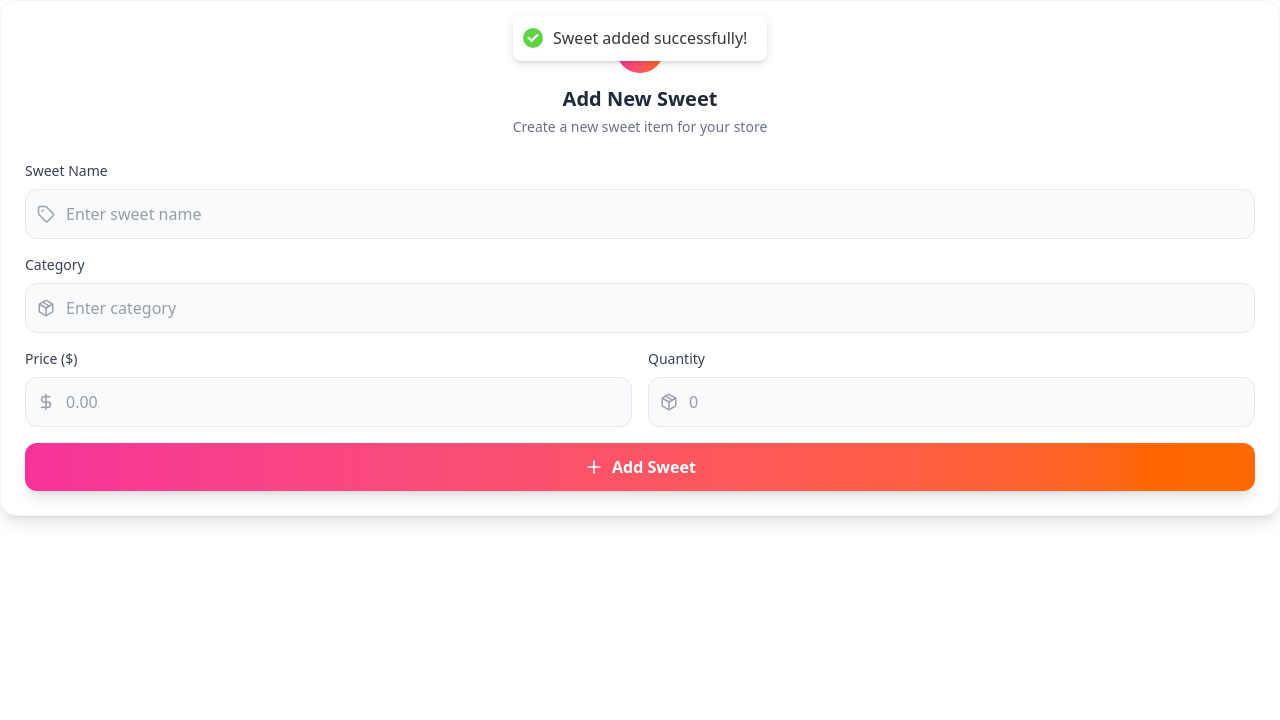
AddSweetForm › should show loading state during submission
Type "Test Sweet" into the field with placeholder "Enter sweet name" at (640, 214), box [25,189,1255,239]
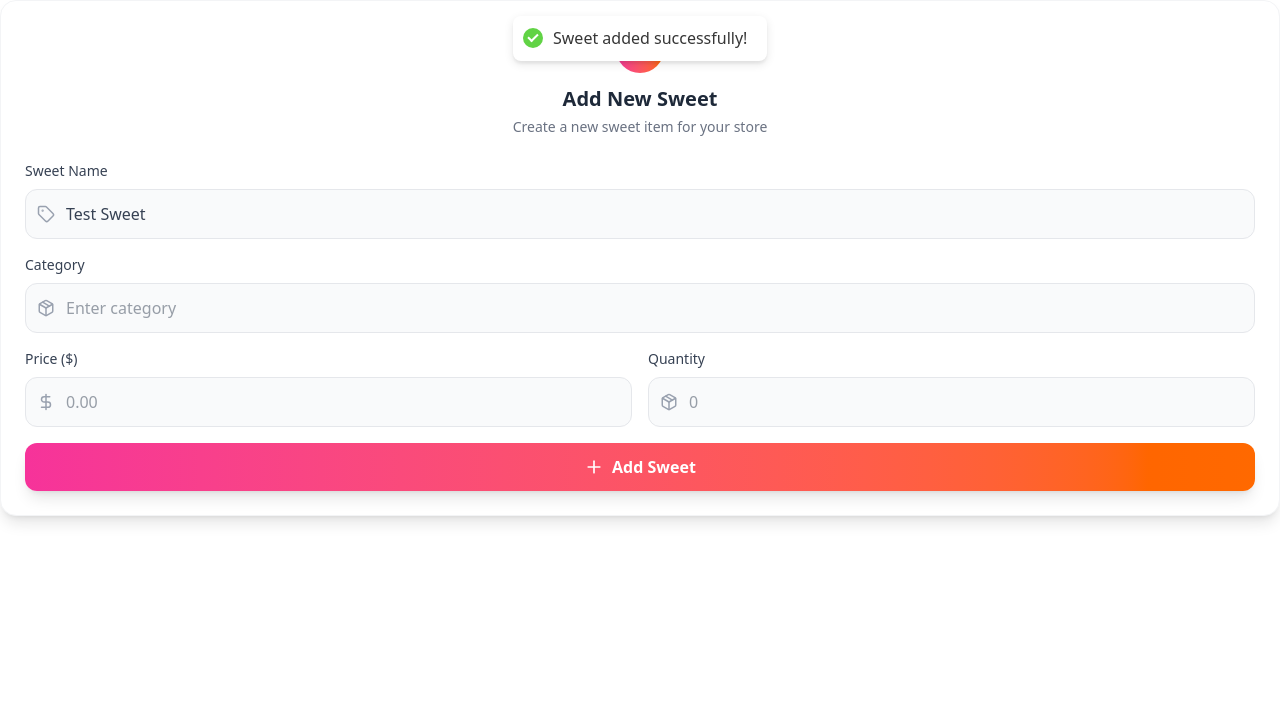
Type "Candy" into the field with placeholder "Enter category" at (640, 308), box [25,283,1255,333]
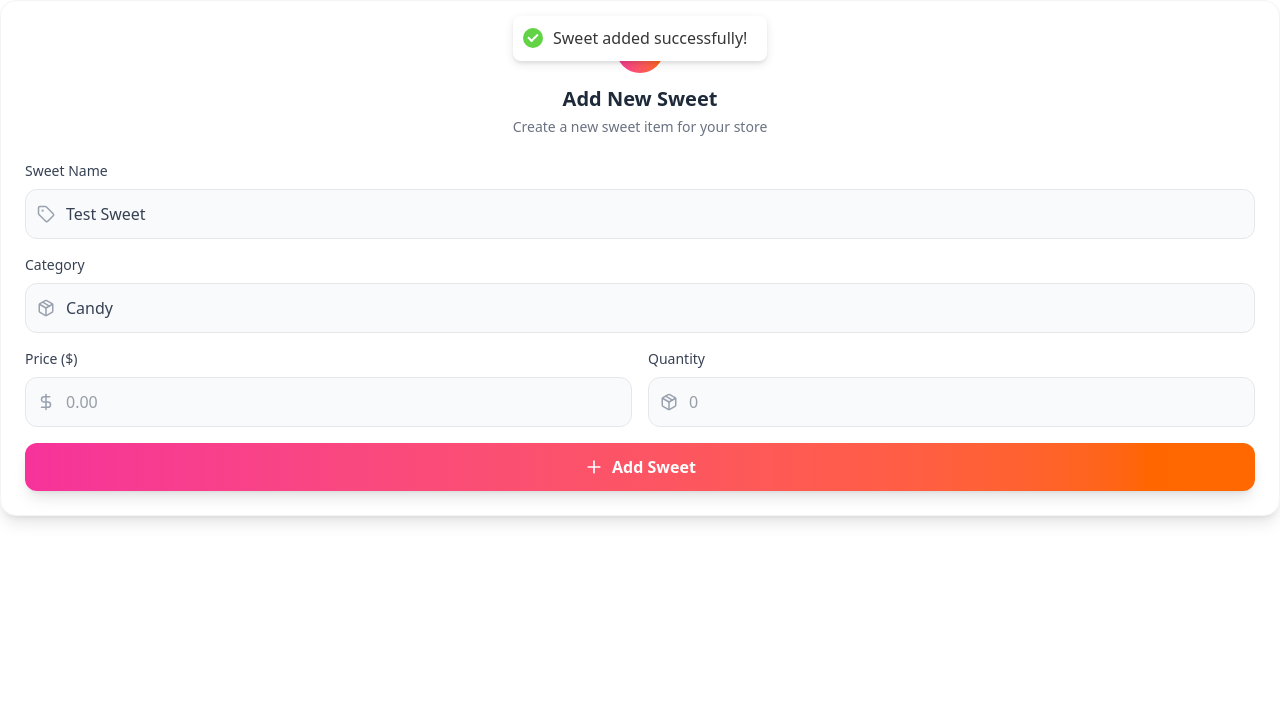
Type "5.99" into the number field with placeholder "0.00" at (328, 402), box [25,377,632,427]
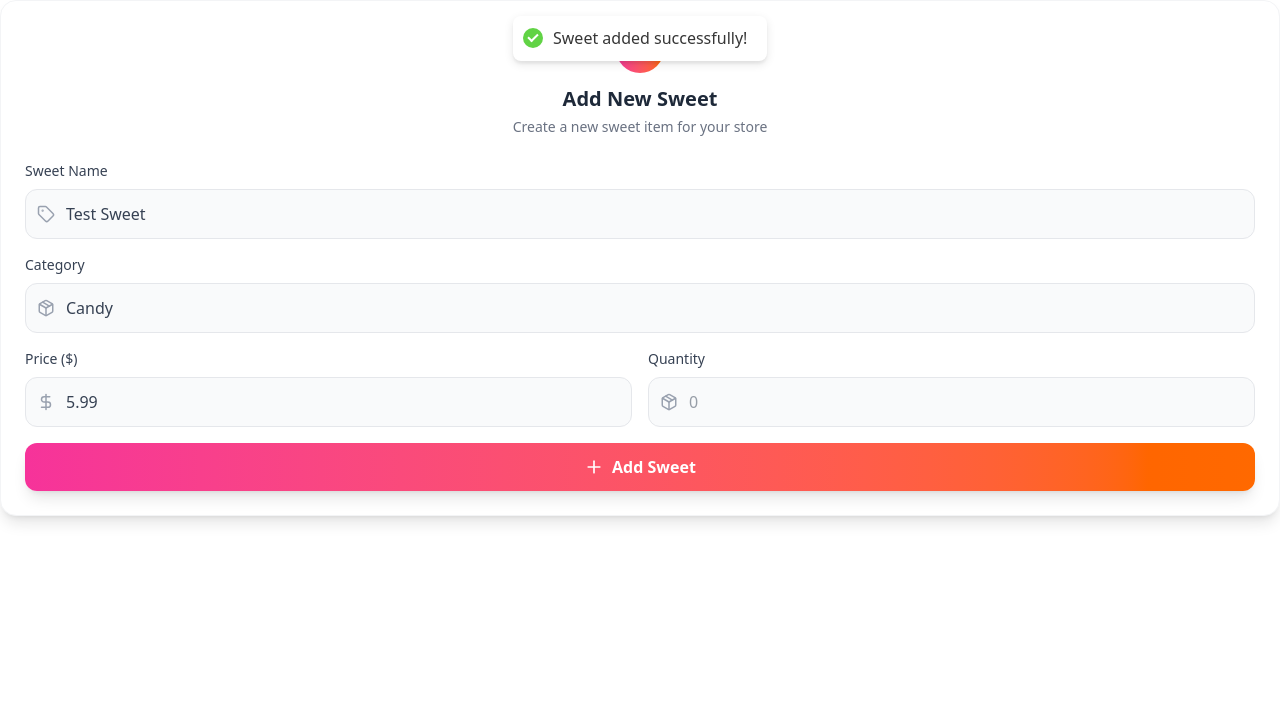
Type "10" into the number field with placeholder "0" at (952, 402), box [648,377,1255,427]
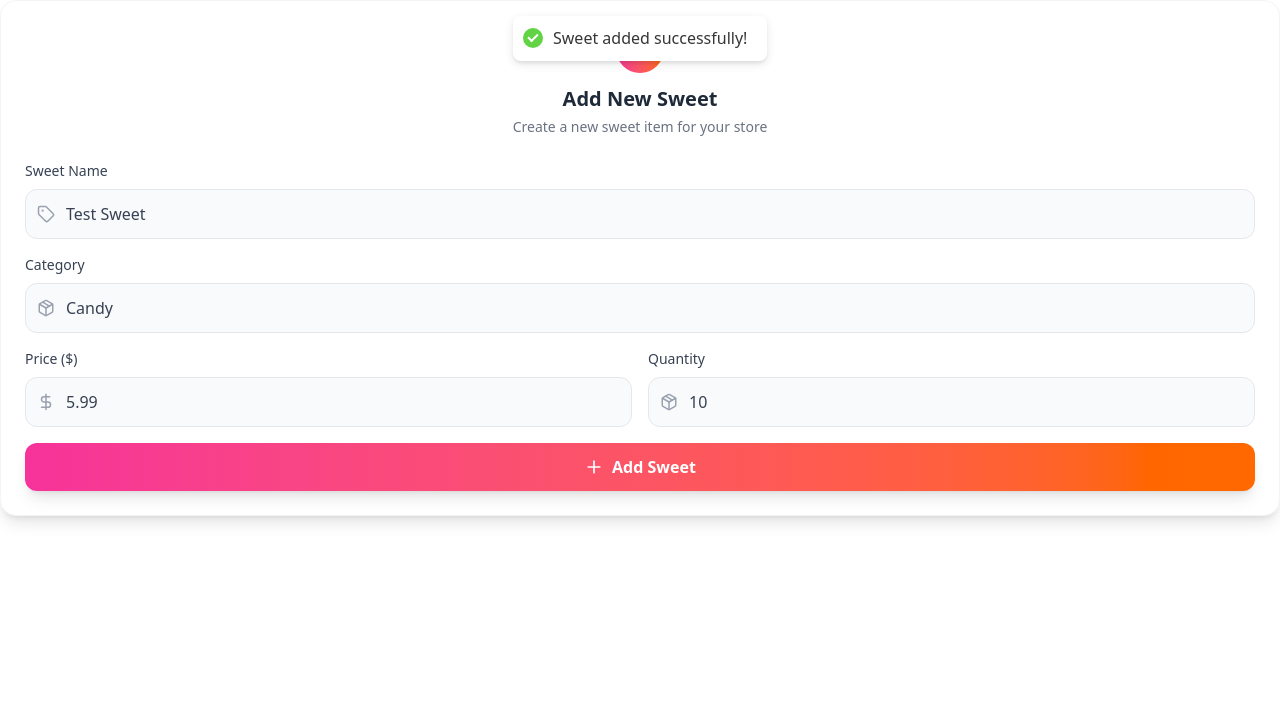
Click the button "Add Sweet" at (640, 467), box [25,443,1255,491]
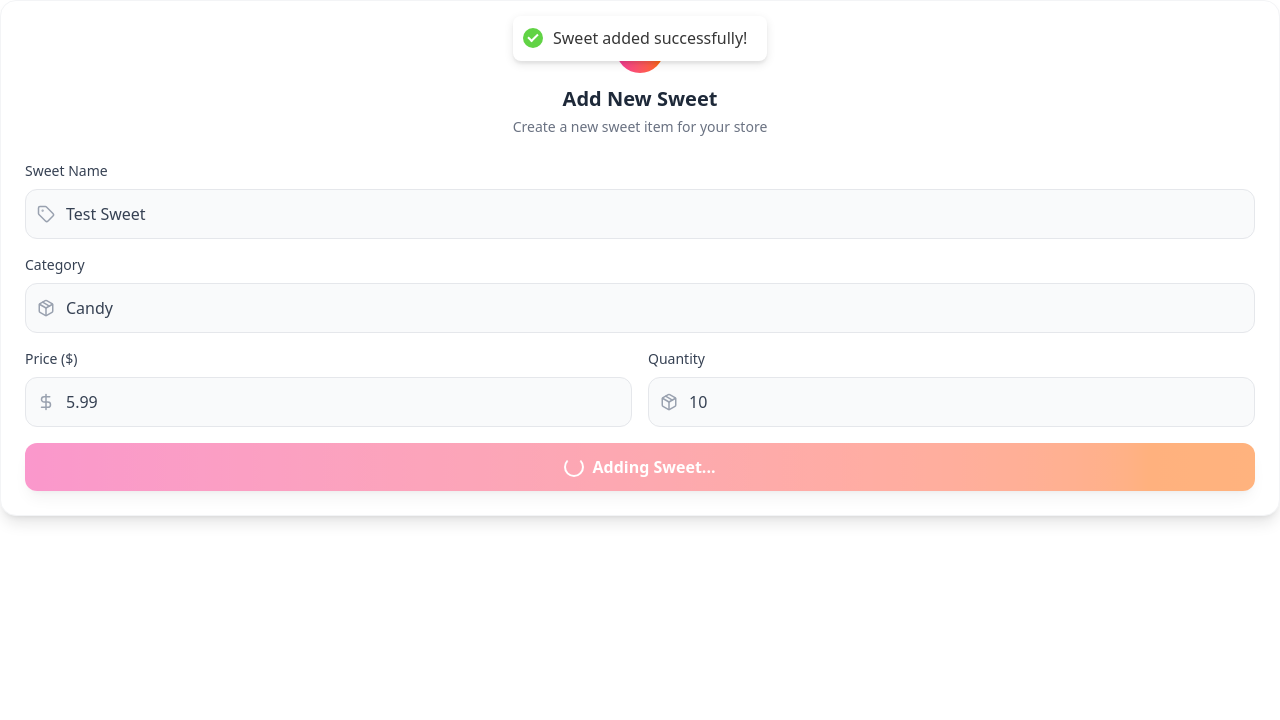
Now the text "Adding Sweet..." is shown, box [564,456,716,478]
Now the button named "add sweet" is disabled, box [25,443,1255,491]
